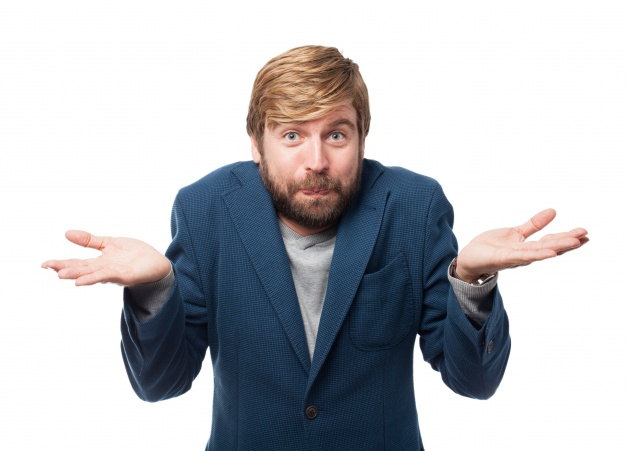confused: (253, 94, 373, 228)
